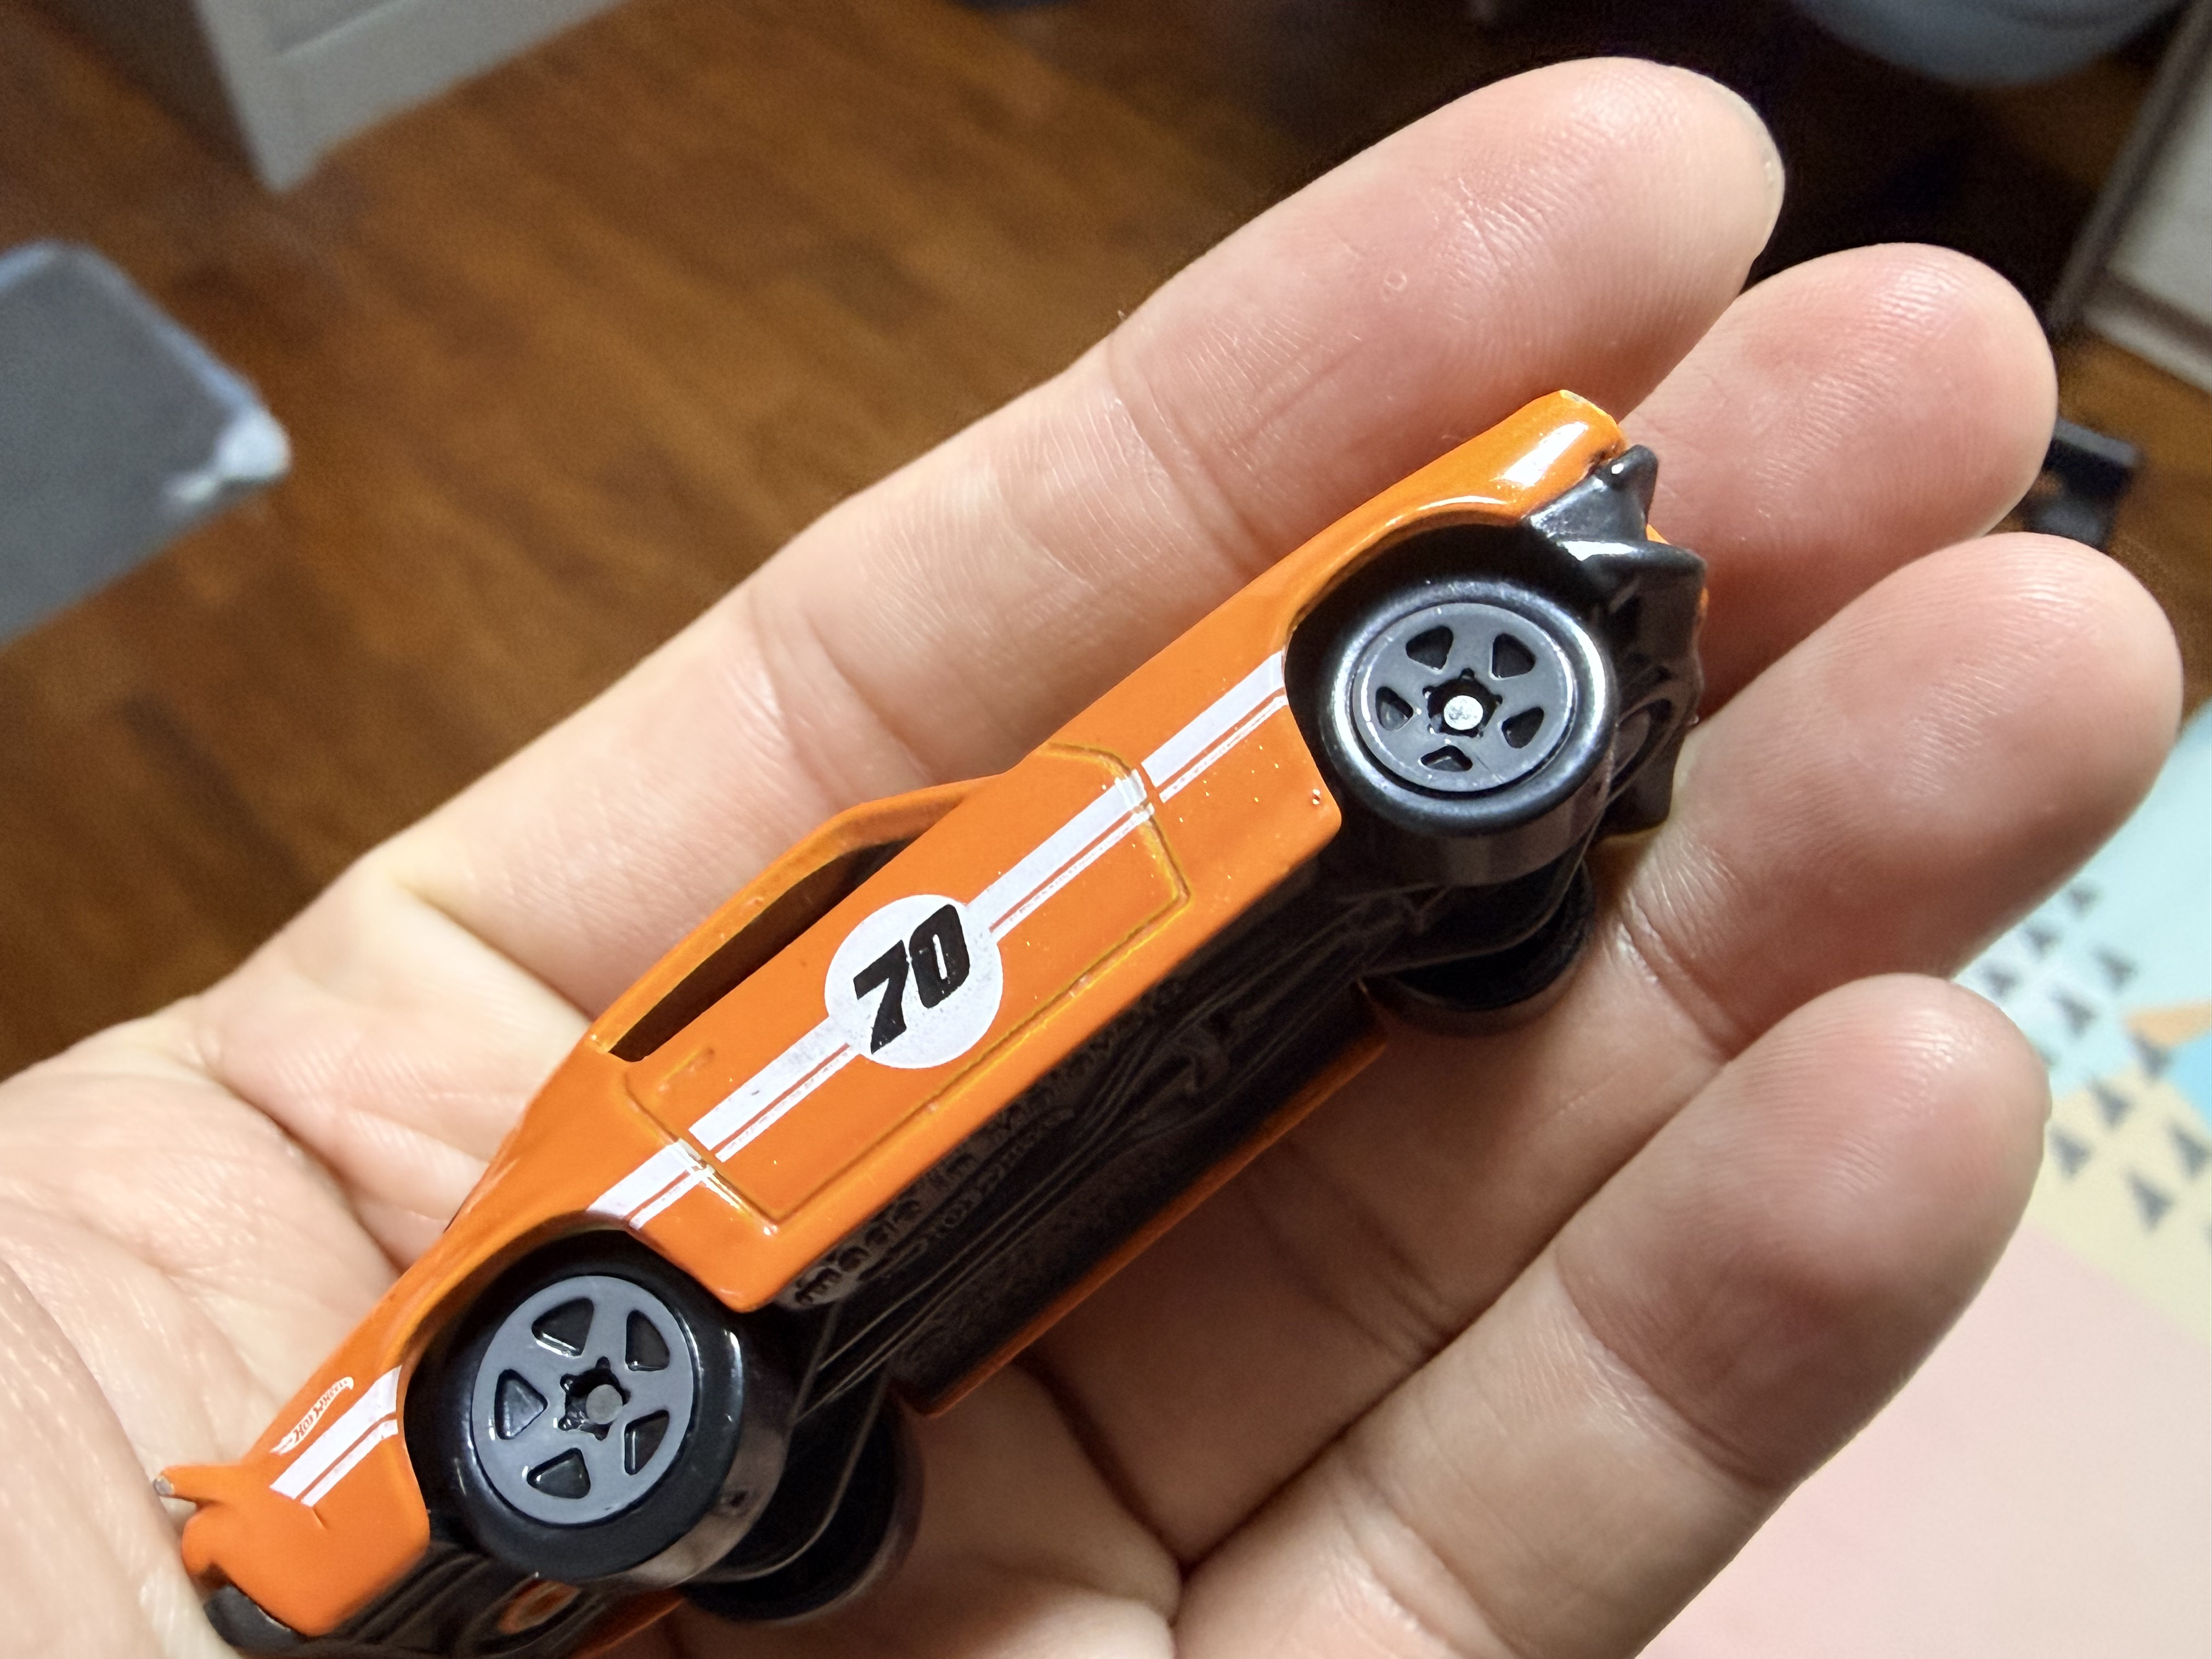camaro_rs: (150, 391, 1709, 1659)
